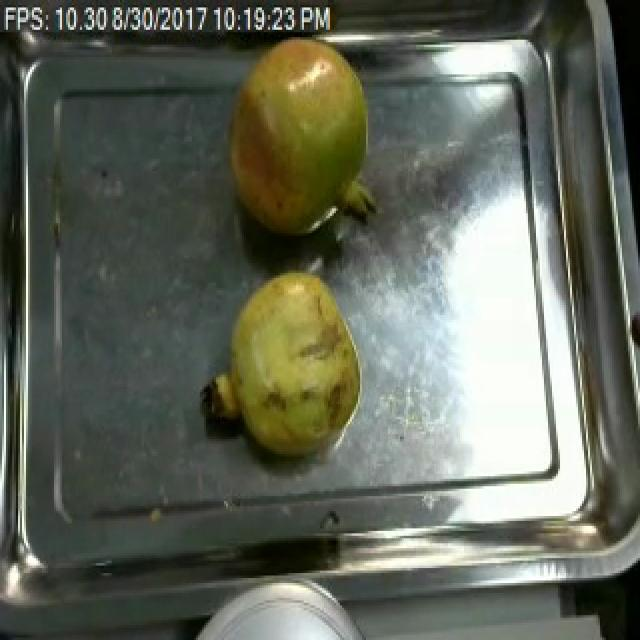fruit: (220, 30, 382, 243), (208, 258, 368, 466)
